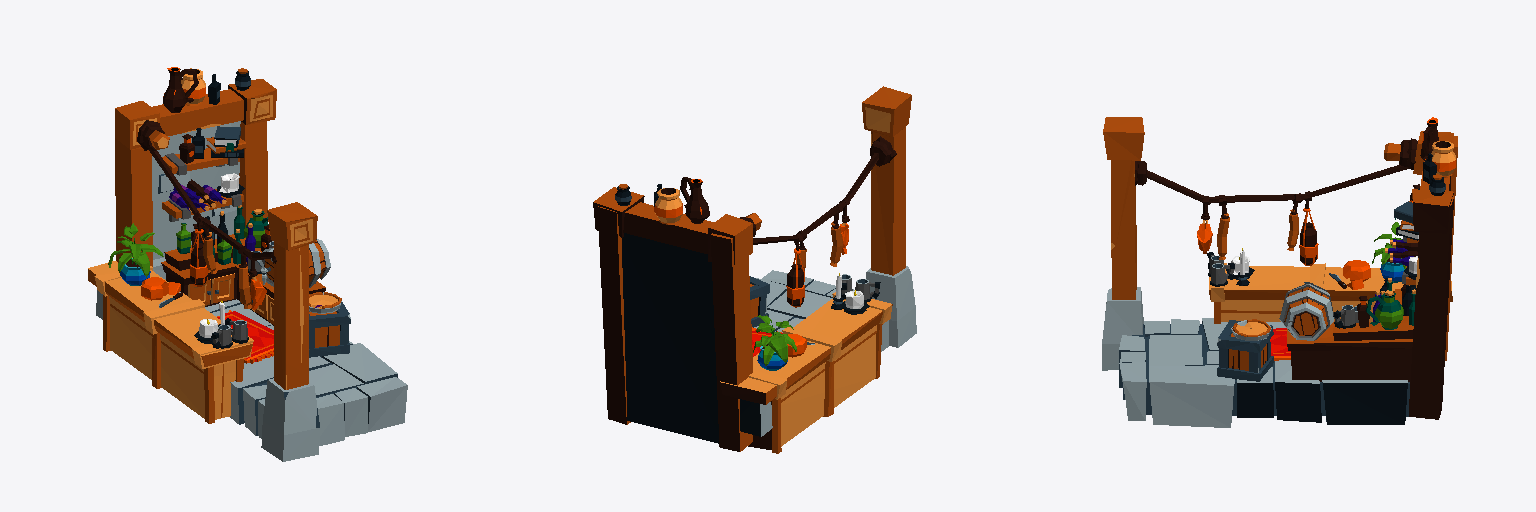
The picture shows the model from 3 angles: view 1: azimuth 30°, elevation 25°; view 2: azimuth 150°, elevation 25°; view 3: azimuth 270°, elevation 25°; orthographic projection.
Visible parts, largest first — view 1: group[number redacted], group[number redacted], group[number redacted], group[number redacted], group[number redacted], group[number redacted], group[number redacted], group[number redacted], group[number redacted], group[number redacted], group[number redacted], group[number redacted] (+7 smaller); view 2: group[number redacted], group[number redacted], group[number redacted], group[number redacted], group[number redacted], group[number redacted], group[number redacted], group[number redacted], group[number redacted], group[number redacted]; view 3: group[number redacted], group[number redacted], group[number redacted], group[number redacted], group[number redacted], group[number redacted], group[number redacted], group[number redacted], group[number redacted], group[number redacted], group[number redacted], group[number redacted] (+3 smaller).
Part boxes in pixels (bbox=[...]): group[number redacted]: bbox=[115, 101, 319, 461]; group[number redacted]: bbox=[88, 261, 253, 423]; group[number redacted]: bbox=[205, 299, 407, 445]; group[number redacted]: bbox=[96, 89, 243, 319]; group[number redacted]: bbox=[228, 79, 276, 226]; group[number redacted]: bbox=[161, 234, 325, 325]; group[number redacted]: bbox=[309, 302, 350, 357]; group[number redacted]: bbox=[108, 223, 163, 285]; group[number redacted]: bbox=[217, 310, 273, 363]; group[number redacted]: bbox=[261, 239, 330, 287]; group[number redacted]: bbox=[163, 67, 198, 112]; group[number redacted]: bbox=[162, 148, 239, 176]; group[number redacted]: bbox=[622, 202, 772, 443]; group[number redacted]: bbox=[708, 86, 916, 451]; group[number redacted]: bbox=[720, 292, 892, 453]; group[number redacted]: bbox=[593, 187, 644, 424]; group[number redacted]: bbox=[754, 270, 854, 332]; group[number redacted]: bbox=[753, 315, 796, 370]; group[number redacted]: bbox=[680, 177, 709, 223]; group[number redacted]: bbox=[654, 188, 682, 224]; group[number redacted]: bbox=[786, 233, 804, 307]; group[number redacted]: bbox=[750, 276, 769, 327]; group[number redacted]: bbox=[1119, 318, 1409, 427]; group[number redacted]: bbox=[1102, 117, 1457, 370]; group[number redacted]: bbox=[1409, 189, 1453, 419]; group[number redacted]: bbox=[1287, 289, 1413, 381]; group[number redacted]: bbox=[1209, 263, 1452, 323]; group[number redacted]: bbox=[1279, 282, 1334, 340]; group[number redacted]: bbox=[1217, 320, 1273, 381]; group[number redacted]: bbox=[1366, 290, 1403, 329]; group[number redacted]: bbox=[1299, 191, 1318, 265]; group[number redacted]: bbox=[1372, 222, 1405, 282]; group[number redacted]: bbox=[1431, 141, 1455, 177]; group[number redacted]: bbox=[1231, 319, 1271, 340].
Size of the model in its own units: 2.41 by 3.38 by 4.1.